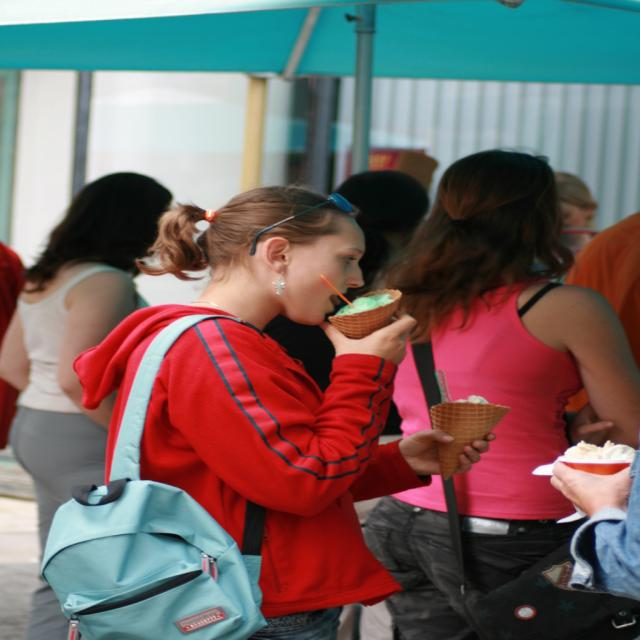backpack: (40, 312, 285, 640)
